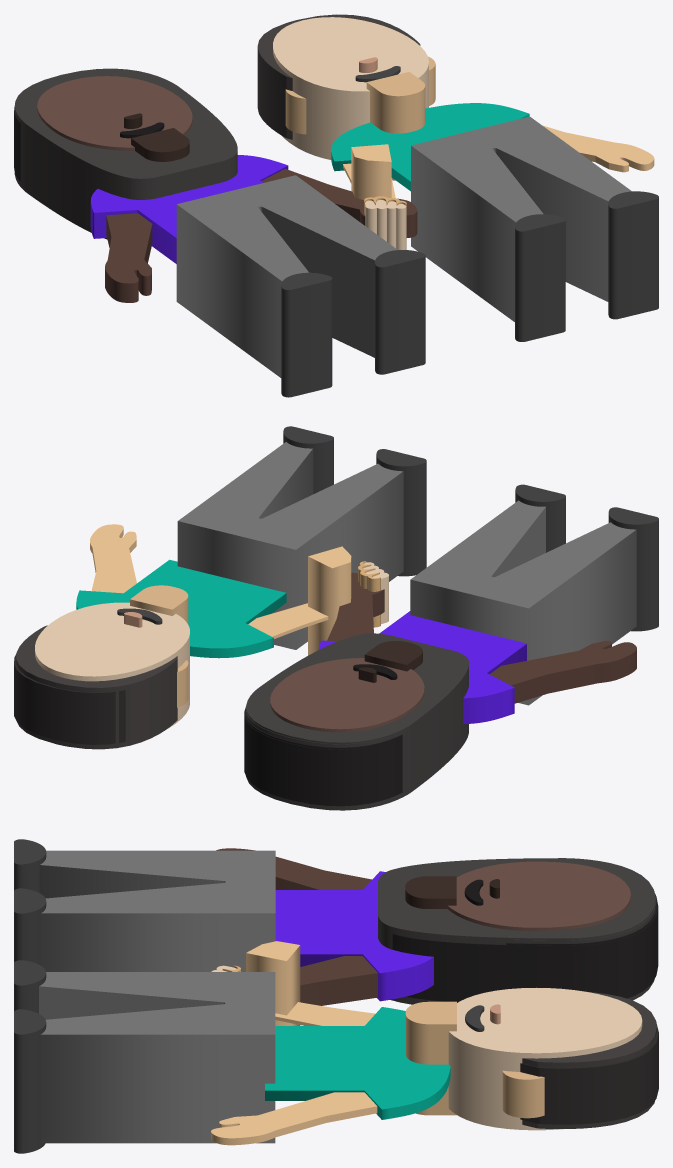
Rendered from emoji_u1f469_1f3ff_200d_1f91d_200d_1f468_1f3fb.glb.
The picture shows the model from 3 angles, top to bottom: view 1: azimuth 30°, elevation 25°; view 2: azimuth 150°, elevation 25°; view 3: azimuth 270°, elevation 25°; orthographic projection. The views are drawn at different scales.
Parts seen in each view (by area): view 1: emoji_u1f469_1f3ff_200d_1f91d_200d_1f468_1f3fb; view 2: emoji_u1f469_1f3ff_200d_1f91d_200d_1f468_1f3fb; view 3: emoji_u1f469_1f3ff_200d_1f91d_200d_1f468_1f3fb.
Boxes of the visible parts, box(x1,y1,x2,y2) form: emoji_u1f469_1f3ff_200d_1f91d_200d_1f468_1f3fb: box(14, 14, 658, 397); emoji_u1f469_1f3ff_200d_1f91d_200d_1f468_1f3fb: box(14, 426, 658, 810); emoji_u1f469_1f3ff_200d_1f91d_200d_1f468_1f3fb: box(14, 839, 658, 1153).
Size of the model in its own units: 0.0346 by 0.0068 by 0.0334.
